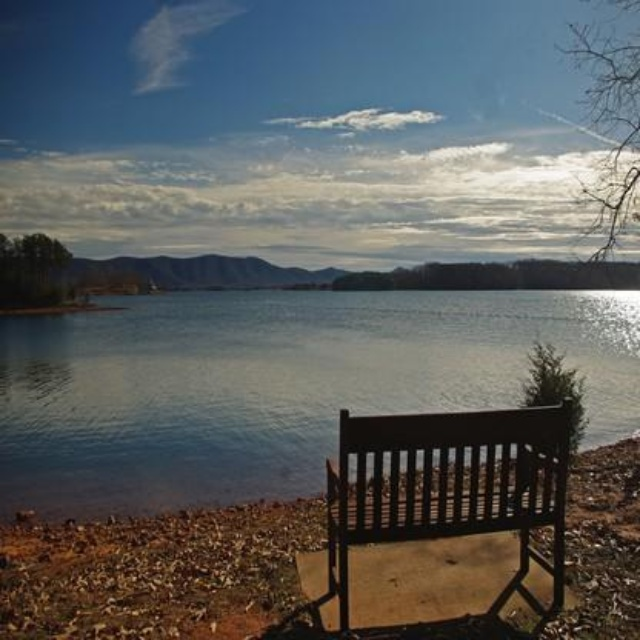obstacle: (297, 405, 585, 632)
